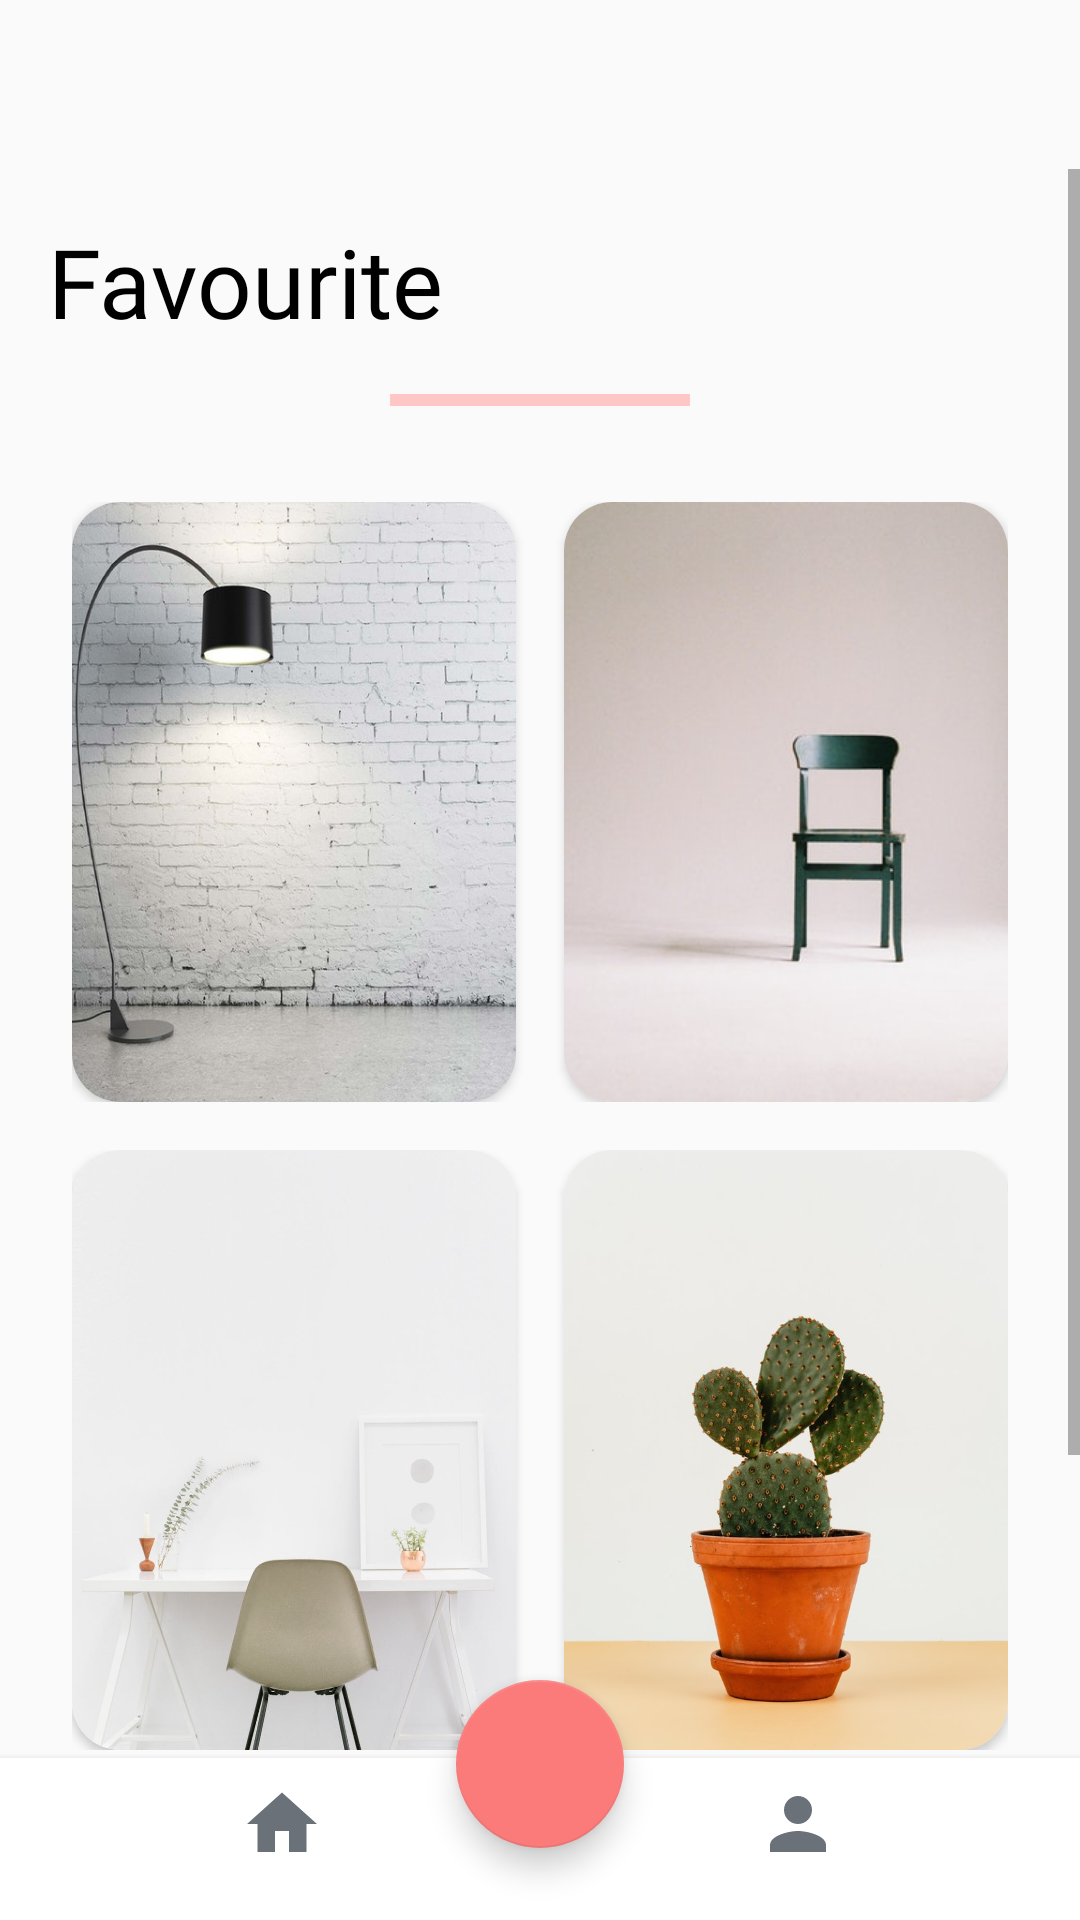

Where to tap for icons on this 1080w x 1920h app screen, as point (x, y):
home: point (282, 1822)
person: point (798, 1824)
